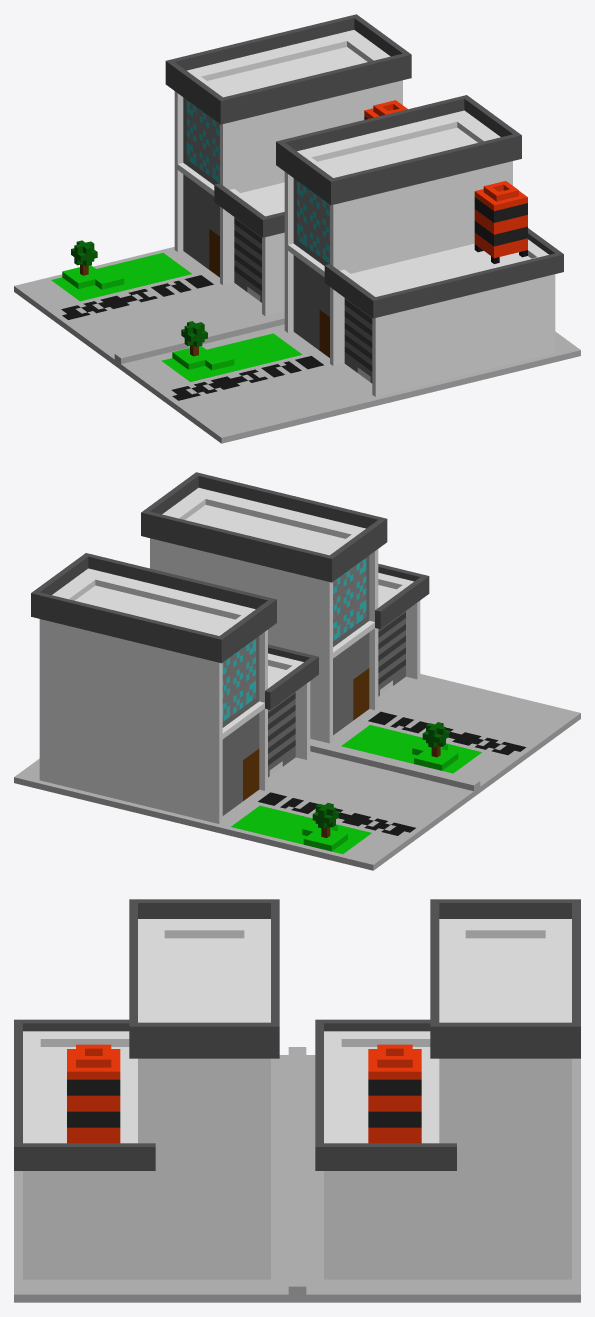
File: house-4.obj
3 views of the same model, one above another, from view 1: azimuth 30°, elevation 25°; view 2: azimuth 150°, elevation 25°; view 3: azimuth 270°, elevation 25° (orthographic). The views are drawn at different scales.
Bounding box in the file's own units: 6.4 × 3.3 × 6.4.
1 material, 1 textured.
